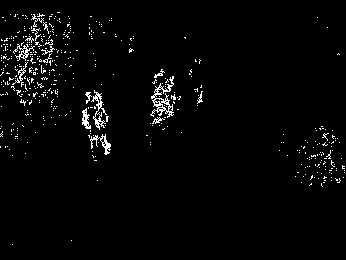person: (81, 90, 112, 162)
